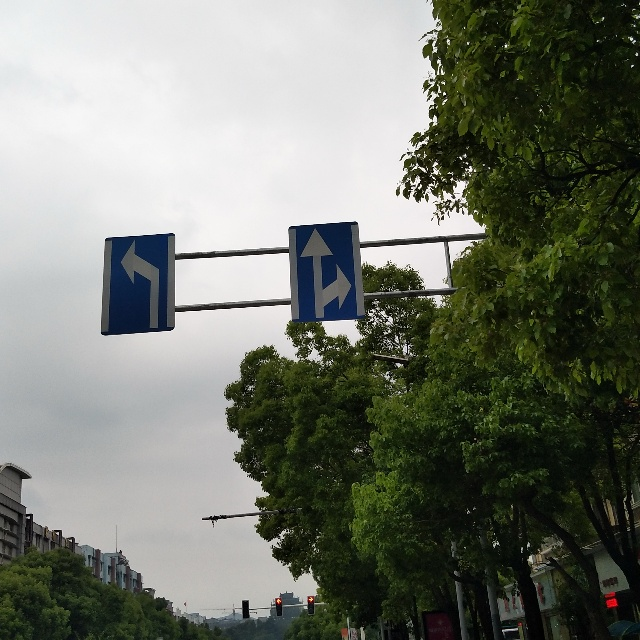left: (111, 234, 172, 332)
